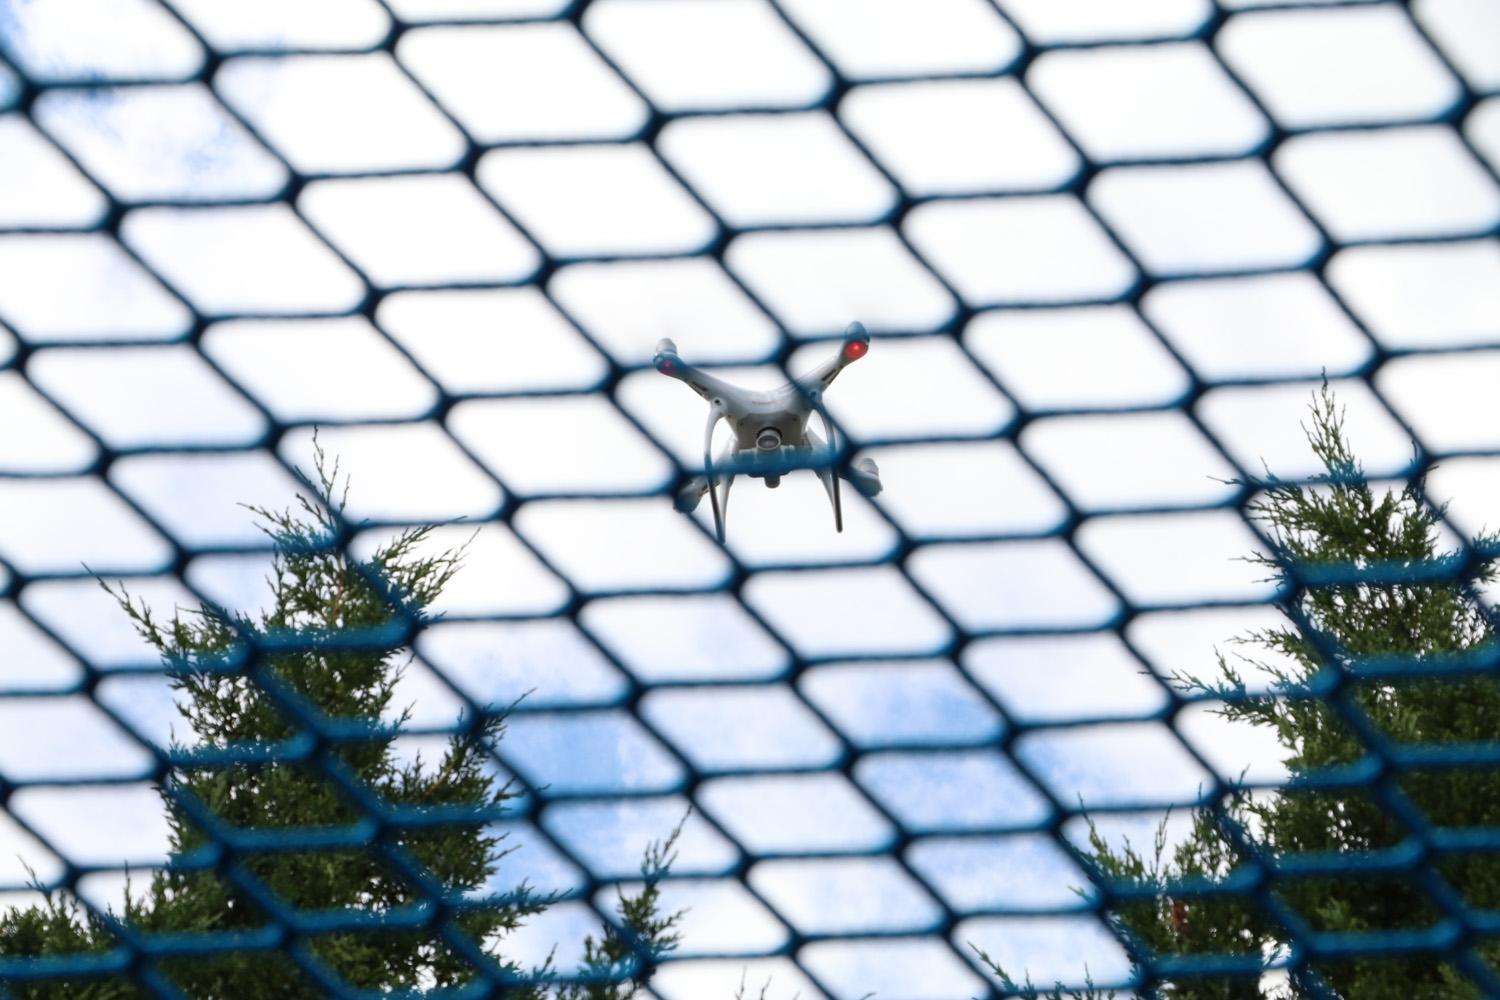drone: (610, 308, 927, 523)
